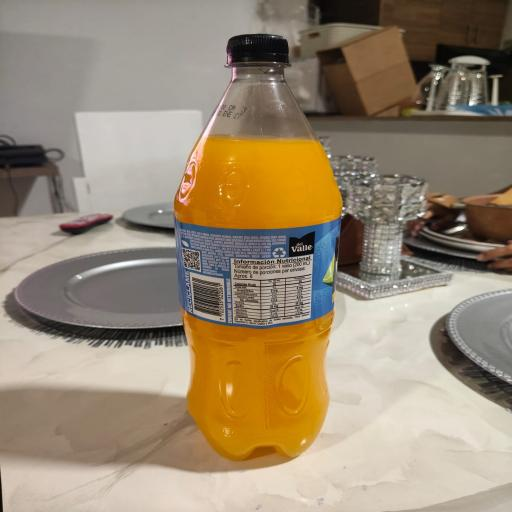Jugo del valle: (162, 26, 372, 473)
